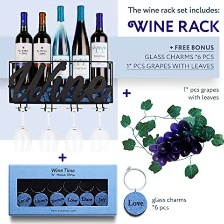bottle: (70, 3, 91, 89), (11, 8, 33, 87), (31, 7, 53, 86), (90, 9, 111, 91), (51, 3, 71, 89)
